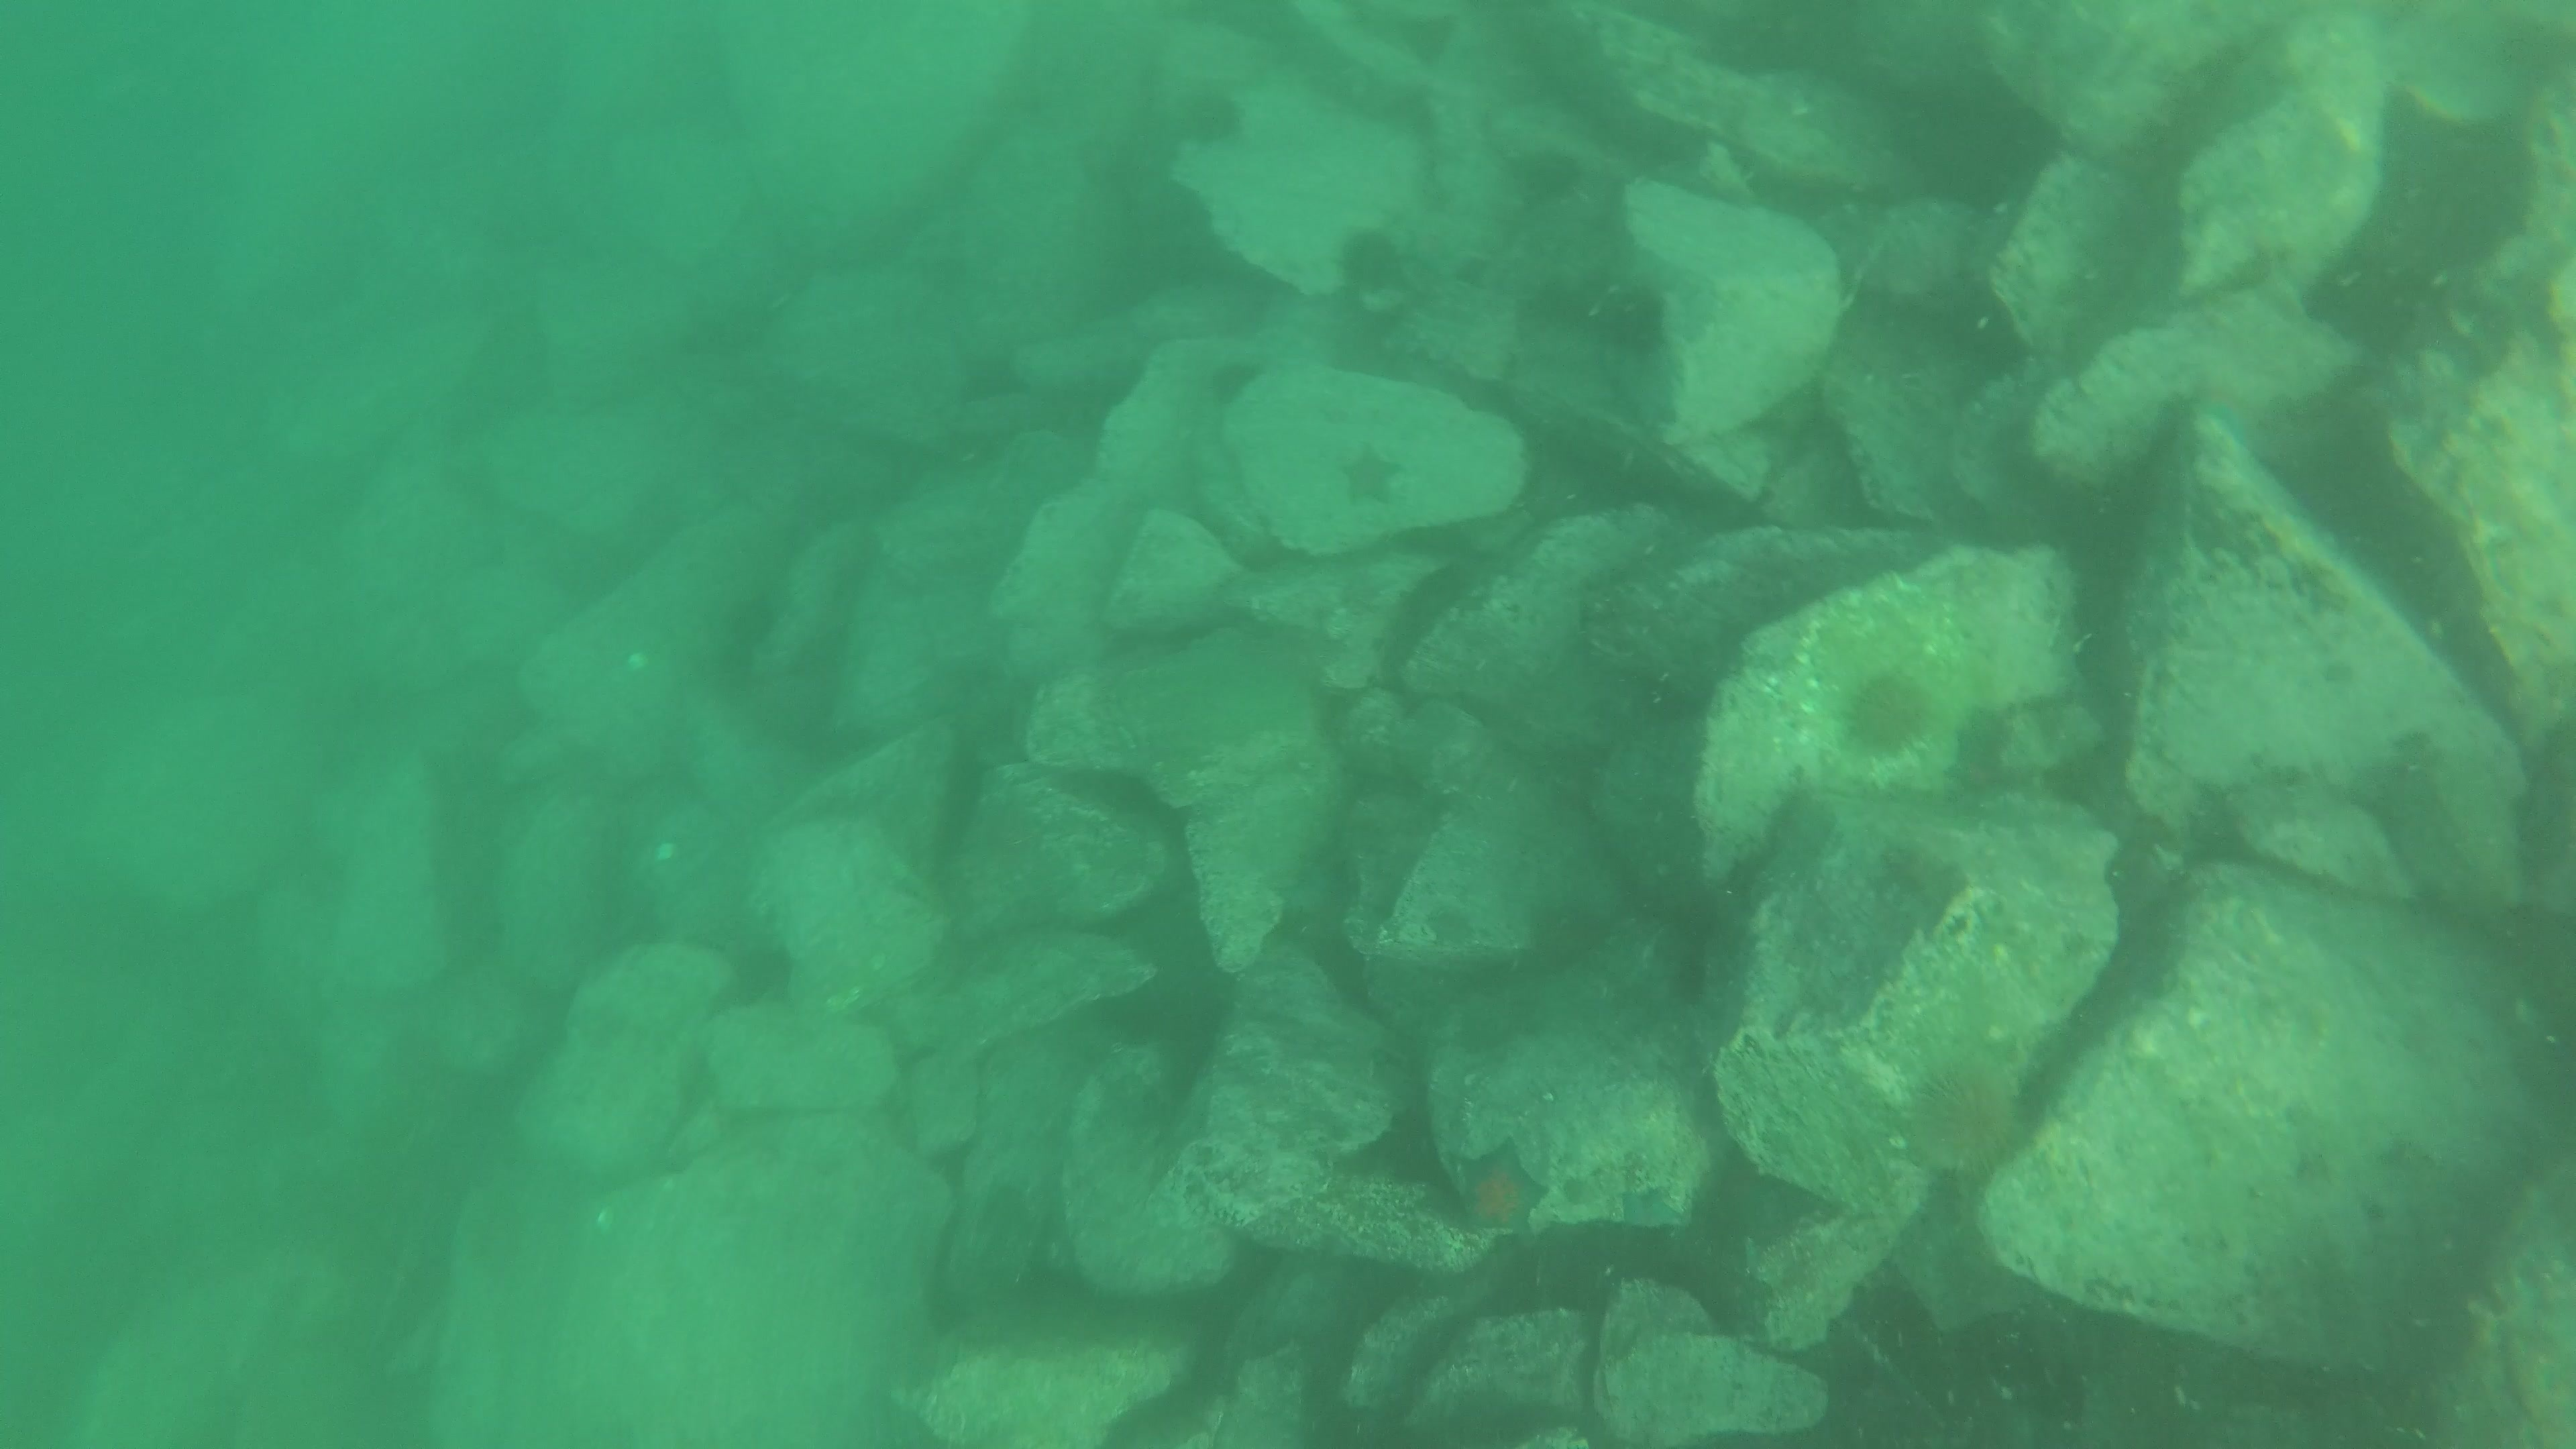echinus: (1898, 1053, 2033, 1185), (1833, 663, 1937, 764), (715, 925, 803, 1016), (1330, 221, 1417, 311), (1171, 80, 1253, 156), (1599, 283, 1672, 356)
starfish: (1435, 1134, 1555, 1246), (1334, 441, 1407, 510)
